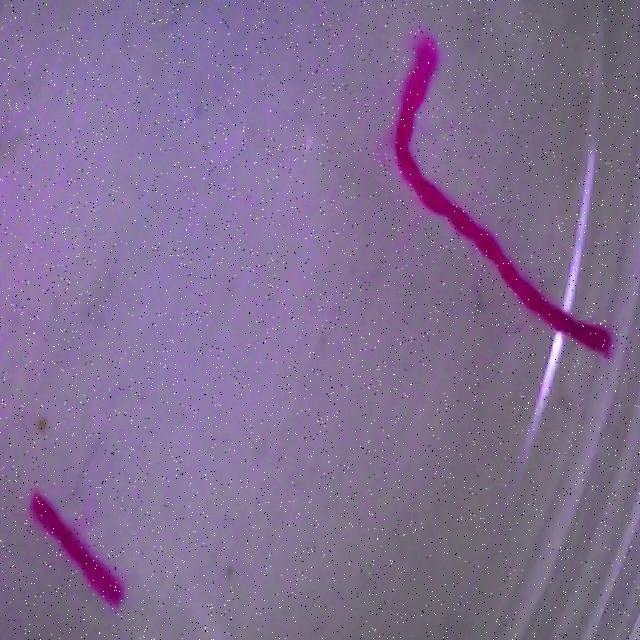fibers: (348, 33, 621, 399), (18, 492, 130, 611)
